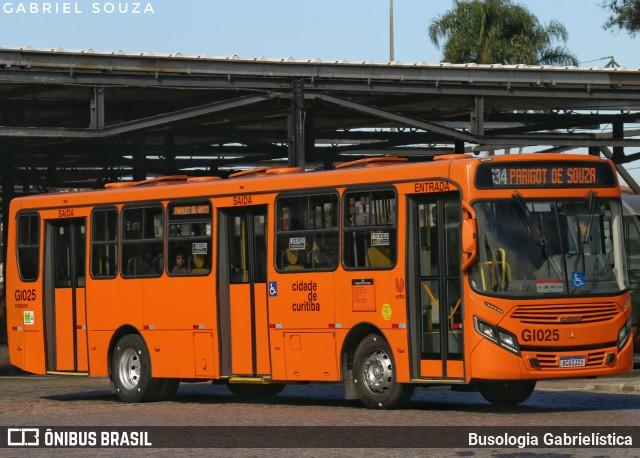PARIGOT DE SOUZA: (506, 165, 599, 188)
